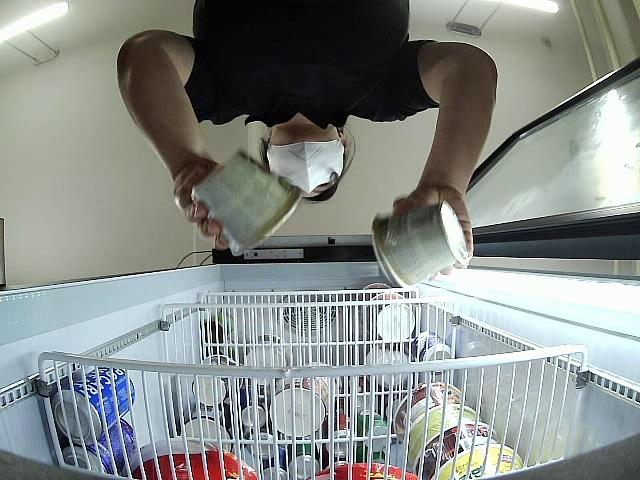00_hand: (393, 183, 475, 283), (173, 159, 231, 252)
04_chapagetti_S: (196, 153, 300, 253), (376, 203, 470, 293)
